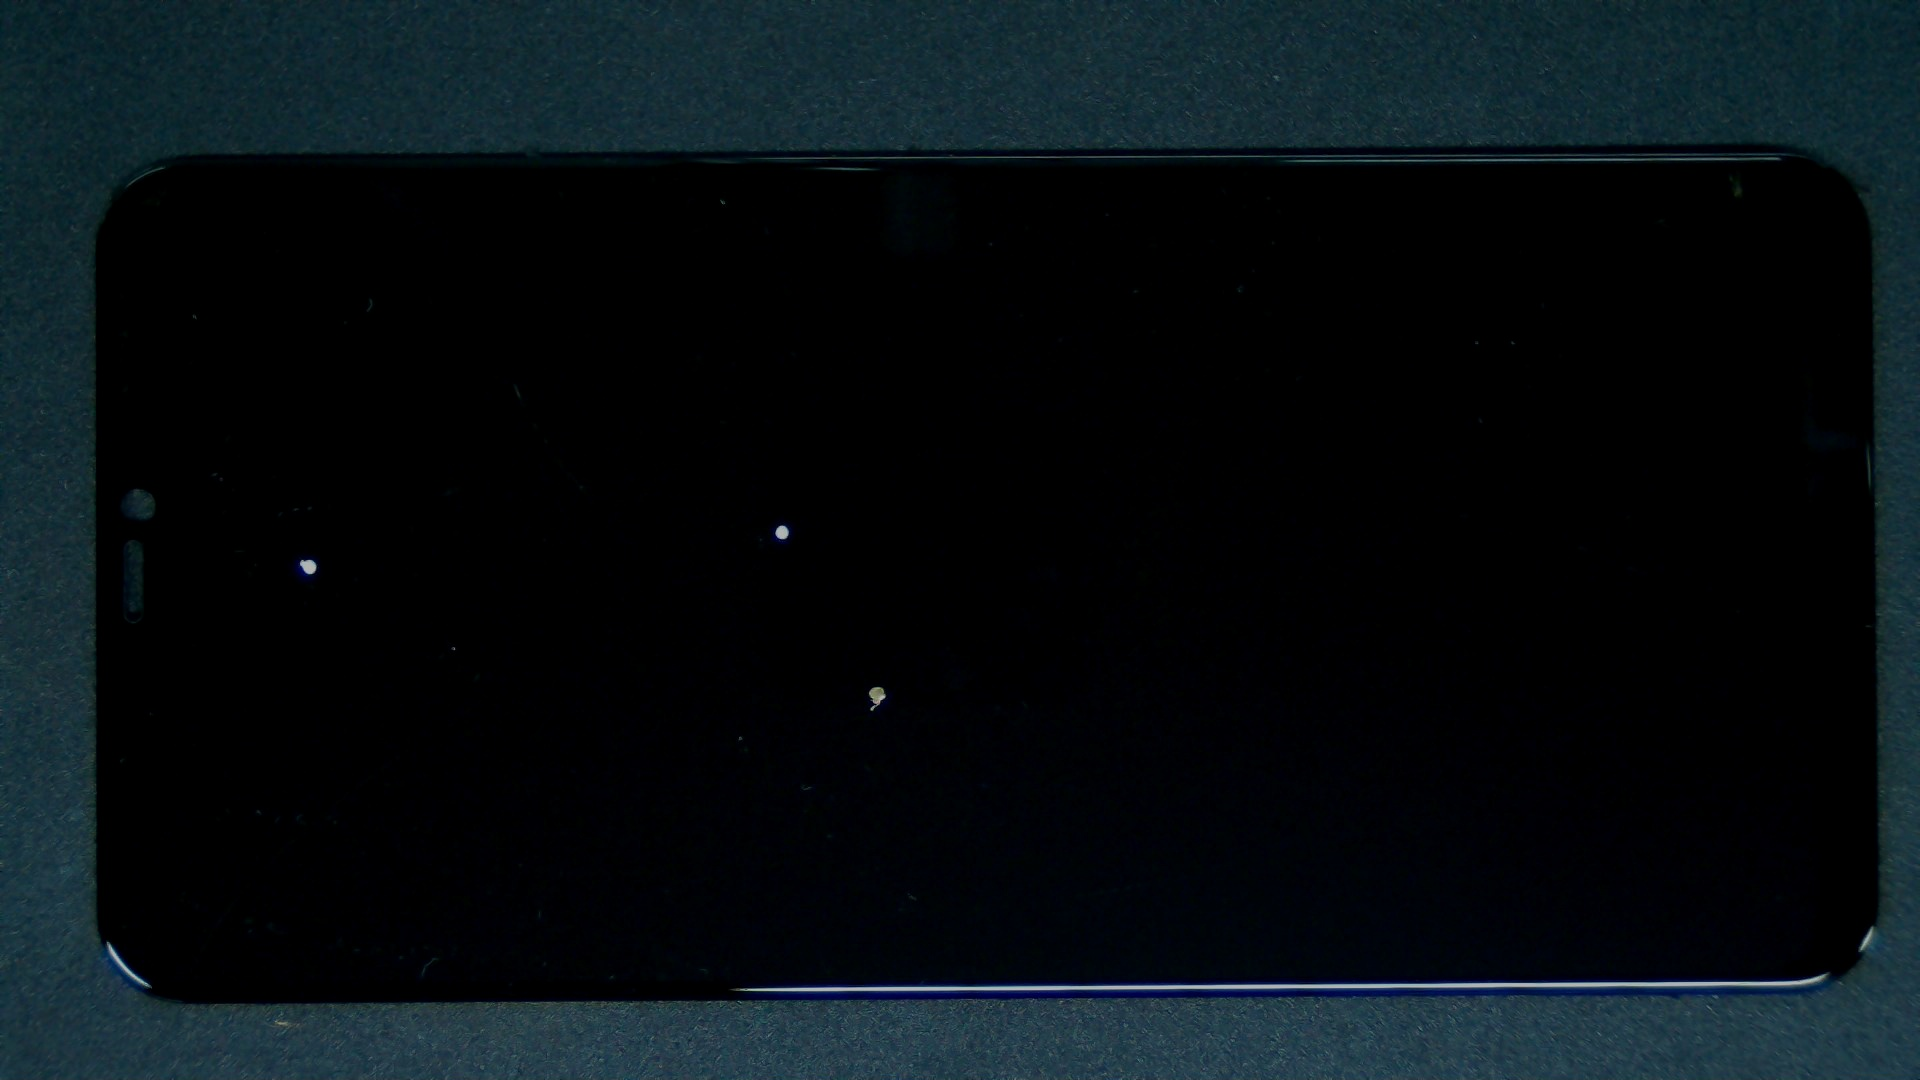oil: (436, 342, 1308, 1029), (393, 262, 1178, 789), (152, 277, 452, 835)
